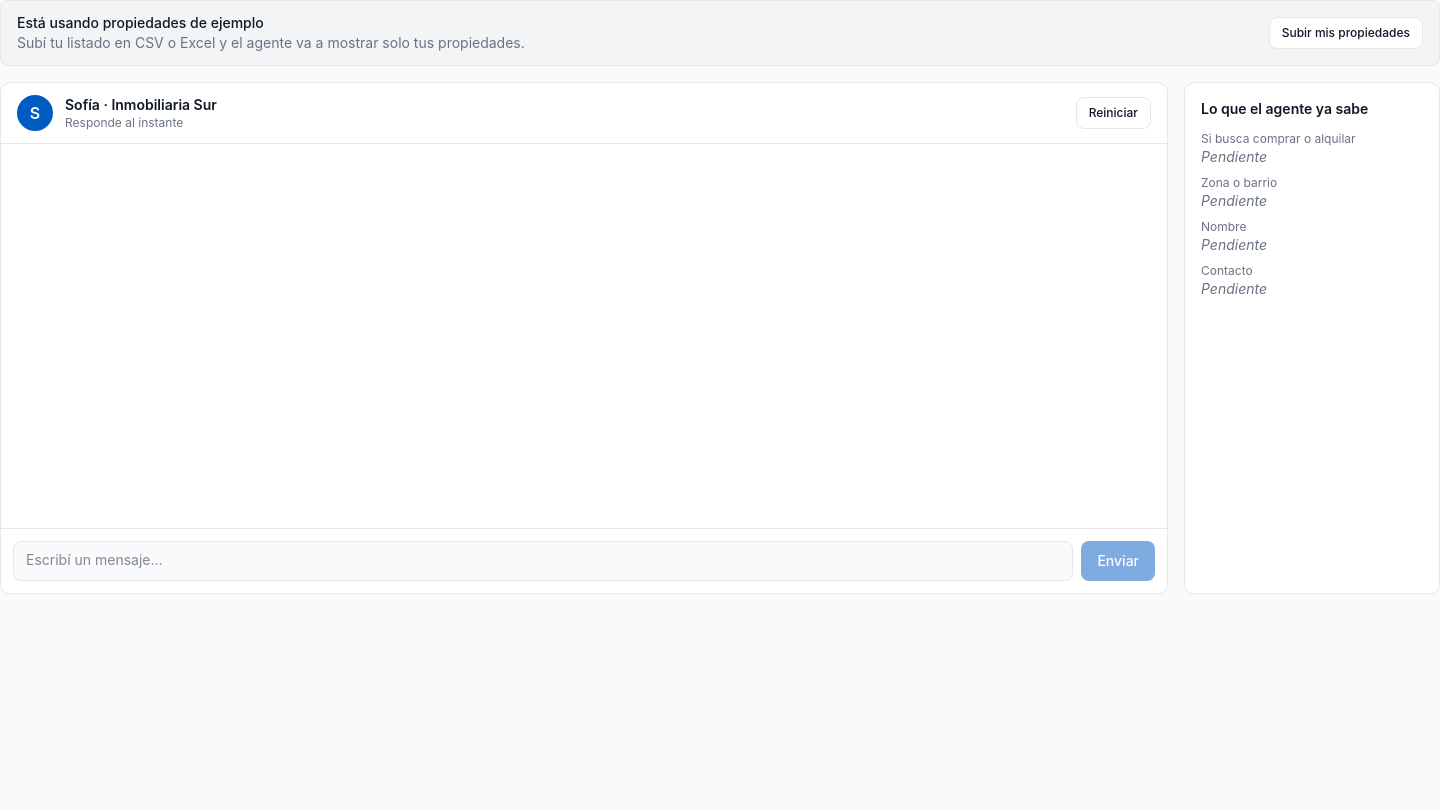
SimulatorView › offers to resend when the agent is unavailable
In the text box labelled "mensaje": (543, 561) left=13, top=541, right=1073, bottom=581, type "Quiero alquilar"
Then press Enter
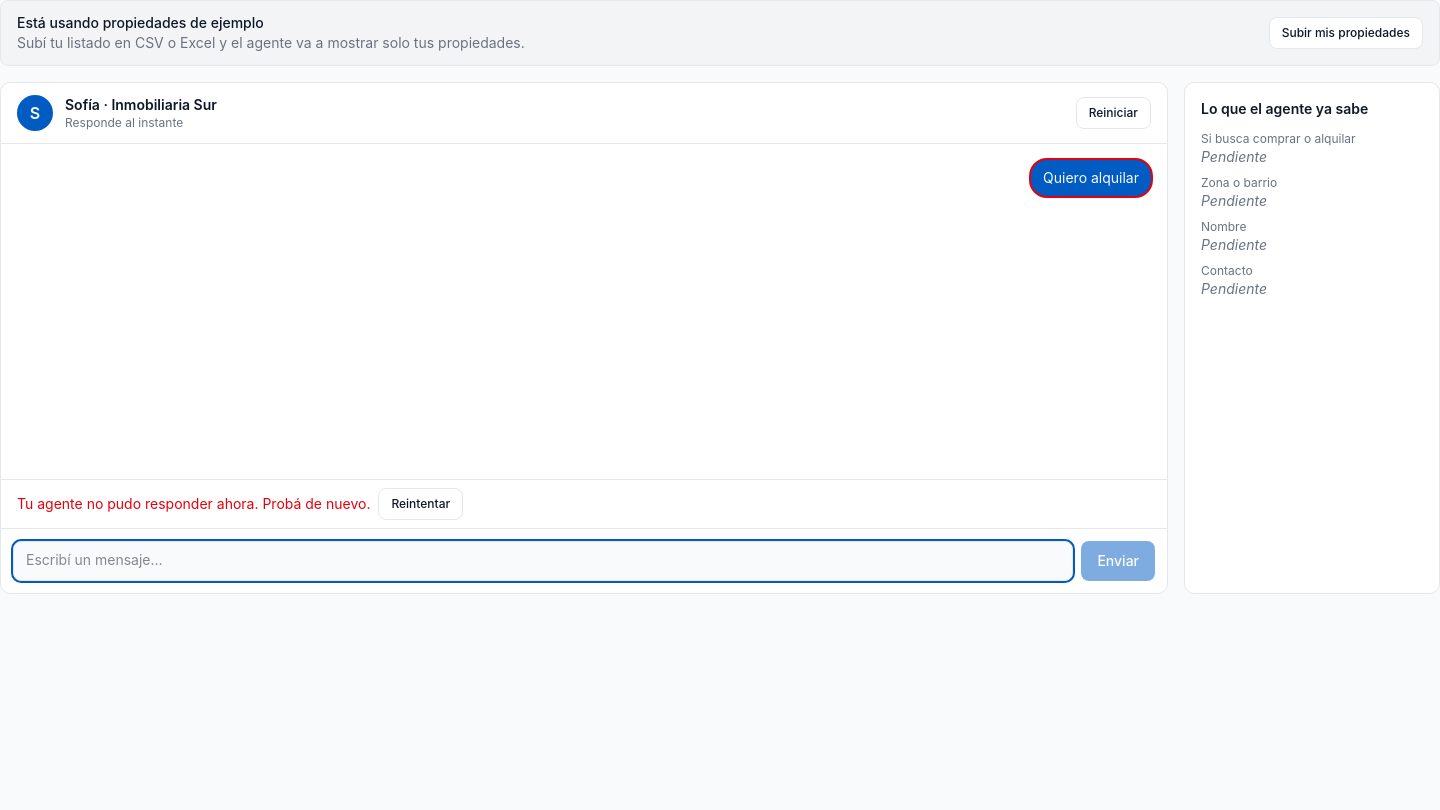
Expected: the text "Tu agente no pudo responder ahora. Probá de nuevo." is shown, left=17, top=495, right=370, bottom=512
Expected: the text "Quiero alquilar" is shown, left=1043, top=169, right=1139, bottom=186
Click the button "Reintentar": (421, 504) left=378, top=488, right=463, bottom=520
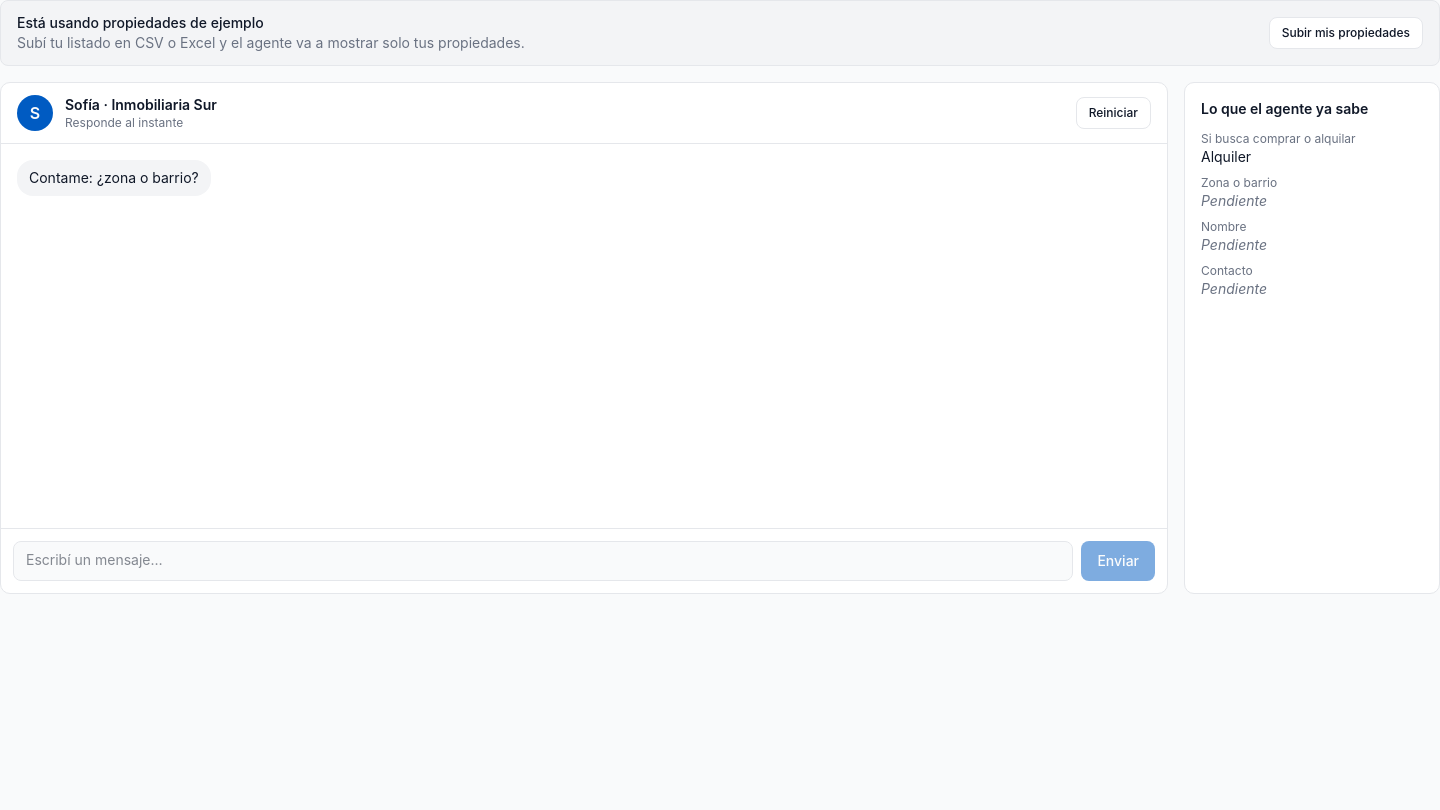
Expected: the text "Contame: ¿zona o barrio?" is shown, left=29, top=169, right=199, bottom=186
Expected: the text "Tu agente no pudo responder ahora. Probá de nuevo." is gone
